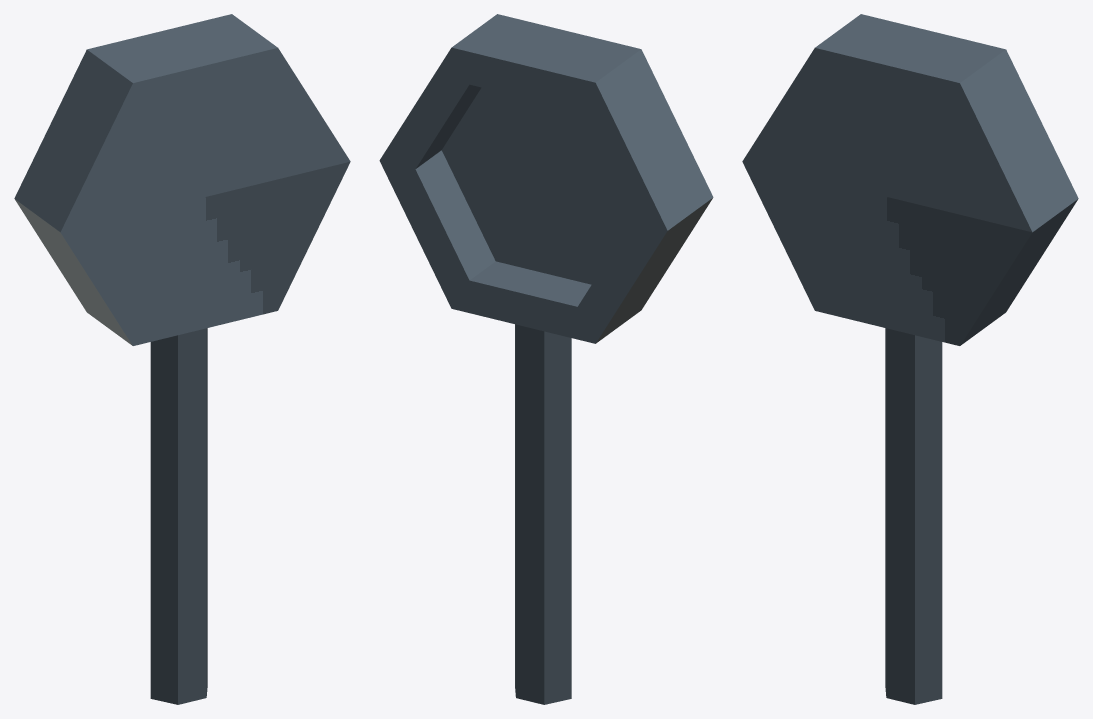
File: Scoreboard.gltf
3 renders of one model, left to right at view 1: azimuth 30°, elevation 25°; view 2: azimuth 150°, elevation 25°; view 3: azimuth 330°, elevation 25°, orthographic.
Parts seen in each view (by area): view 1: cylinder (×2); view 2: cylinder (×2); view 3: cylinder (×2).
Part boxes in pixels (x1,y1,x2,y2): cylinder (×2): [14, 14, 350, 704]; cylinder (×2): [379, 14, 713, 704]; cylinder (×2): [742, 14, 1078, 704].
Size of the model in its own units: 1.59 by 3.38 by 0.4375.
Materials: 1 (1 with a texture image).
